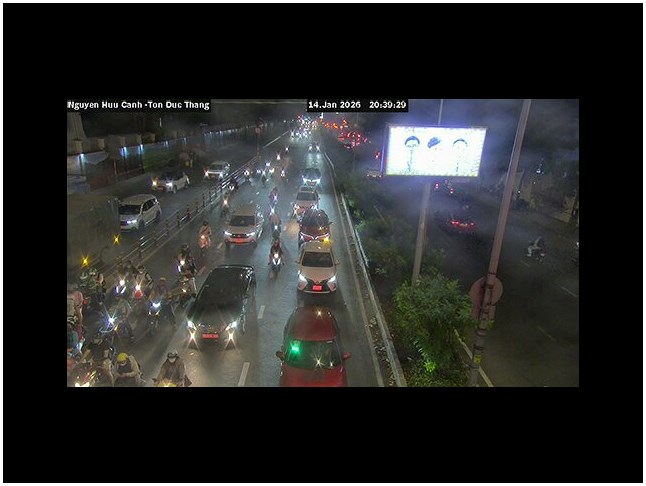car: (296, 241, 339, 295), (221, 202, 265, 245), (116, 194, 162, 231), (292, 188, 319, 219)
